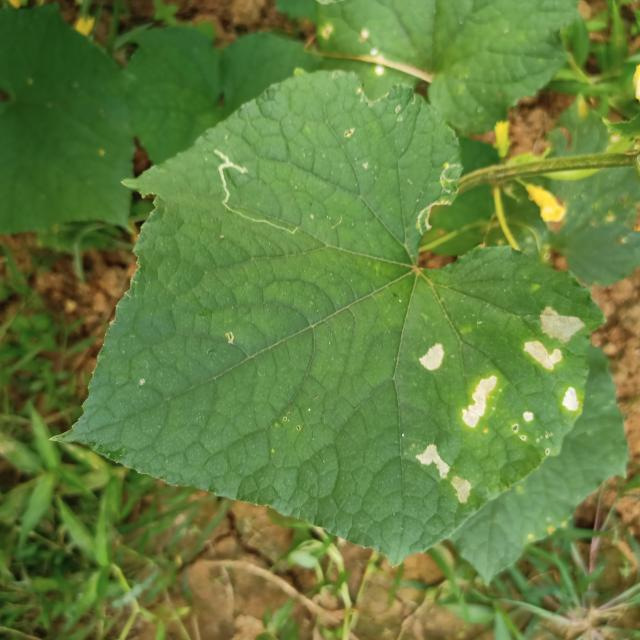disease_cucumber: (521, 304, 586, 412), (458, 371, 540, 448), (414, 440, 482, 511), (415, 335, 449, 381)
